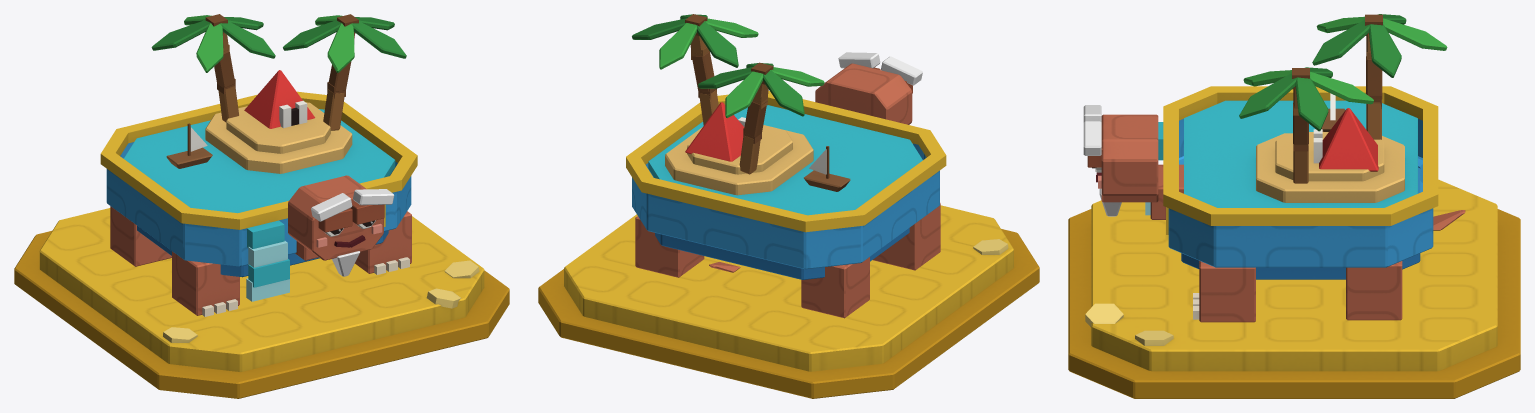
Rendered from IslandTurtle.fbx.
The picture shows the model from 3 angles, left to right: view 1: azimuth 30°, elevation 25°; view 2: azimuth 150°, elevation 25°; view 3: azimuth 270°, elevation 25°; orthographic projection. The views are drawn at different scales.
Parts seen in each view (by area): view 1: Art_IslandTurtle_Stand, Art_IslandTurtle_Body, Art_IslandTurtle_Head, Art_IslandTurtle_PalmA, Art_IslandTurtle_PalmB, Art_IslandTurtle_LegFL, Art_IslandTurtle_LegFR, Art_IslandTurtle_LegBL, Art_IslandTurtle_Boat; view 2: Art_IslandTurtle_Stand, Art_IslandTurtle_Body, Art_IslandTurtle_Head, Art_IslandTurtle_PalmA, Art_IslandTurtle_PalmB, Art_IslandTurtle_LegBL, Art_IslandTurtle_LegFL, Art_IslandTurtle_LegBR, Art_IslandTurtle_Boat; view 3: Art_IslandTurtle_Stand, Art_IslandTurtle_Body, Art_IslandTurtle_Head, Art_IslandTurtle_PalmA, Art_IslandTurtle_PalmB, Art_IslandTurtle_LegFR, Art_IslandTurtle_LegBR, Art_IslandTurtle_Boat.
Part boxes in pixels (<box>): Art_IslandTurtle_Stand: <box>14,208,509,398</box>; Art_IslandTurtle_Body: <box>100,70,417,301</box>; Art_IslandTurtle_Head: <box>288,175,394,276</box>; Art_IslandTurtle_PalmA: <box>151,14,275,122</box>; Art_IslandTurtle_PalmB: <box>283,14,406,130</box>; Art_IslandTurtle_LegFL: <box>172,251,239,316</box>; Art_IslandTurtle_LegFR: <box>355,211,411,274</box>; Art_IslandTurtle_LegBL: <box>110,206,171,266</box>; Art_IslandTurtle_Boat: <box>166,123,212,168</box>; Art_IslandTurtle_Stand: <box>538,205,1039,398</box>; Art_IslandTurtle_Body: <box>626,91,946,279</box>; Art_IslandTurtle_Head: <box>815,52,922,124</box>; Art_IslandTurtle_PalmA: <box>698,62,824,174</box>; Art_IslandTurtle_PalmB: <box>632,14,758,125</box>; Art_IslandTurtle_LegBL: <box>801,257,869,318</box>; Art_IslandTurtle_LegFL: <box>873,203,940,270</box>; Art_IslandTurtle_LegBR: <box>635,216,704,277</box>; Art_IslandTurtle_Boat: <box>804,146,850,191</box>; Art_IslandTurtle_Stand: <box>1068,179,1520,398</box>; Art_IslandTurtle_Body: <box>1145,86,1438,279</box>; Art_IslandTurtle_Head: <box>1083,105,1183,219</box>; Art_IslandTurtle_PalmA: <box>1312,14,1447,139</box>; Art_IslandTurtle_PalmB: <box>1239,67,1373,183</box>; Art_IslandTurtle_LegFR: <box>1193,261,1255,322</box>; Art_IslandTurtle_LegBR: <box>1346,261,1402,320</box>; Art_IslandTurtle_Boat: <box>1321,93,1345,131</box>.
Bounding box in the file's own units: 3.52 × 2.41 × 3.52.
